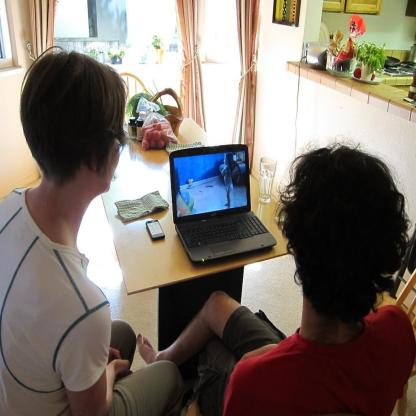board: (170, 144, 278, 264)
